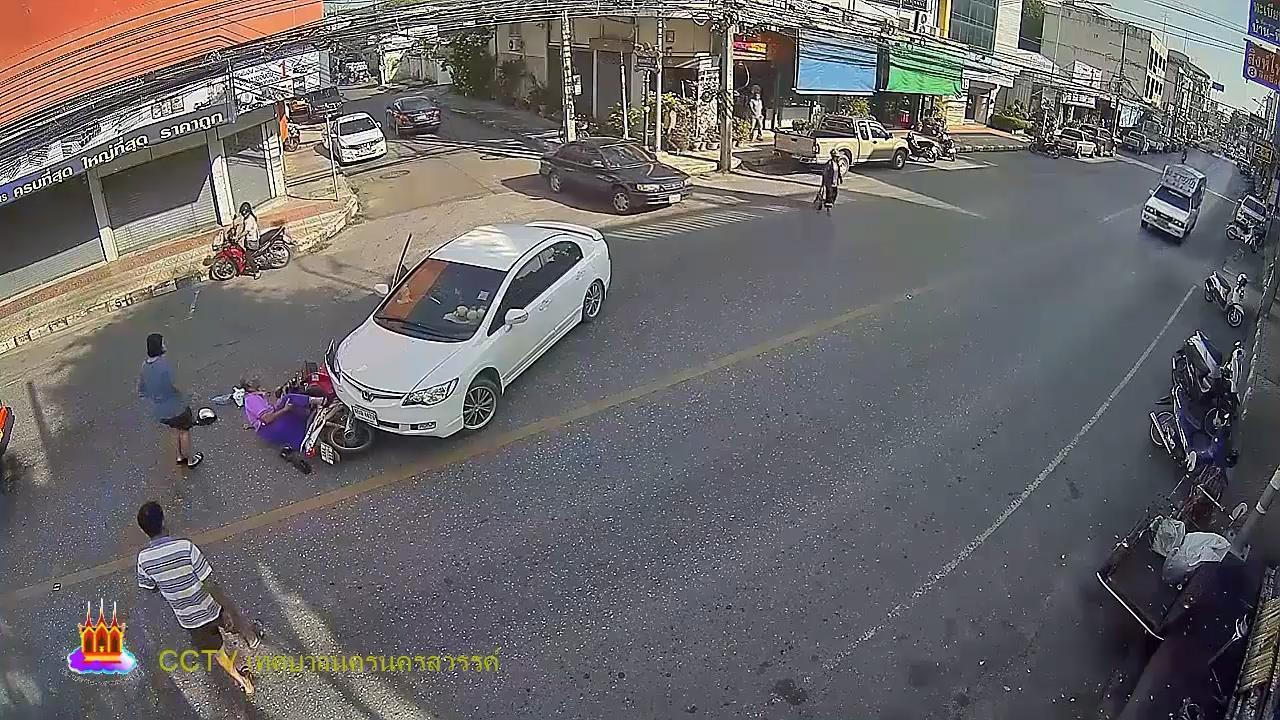accident: (237, 375, 329, 458)
